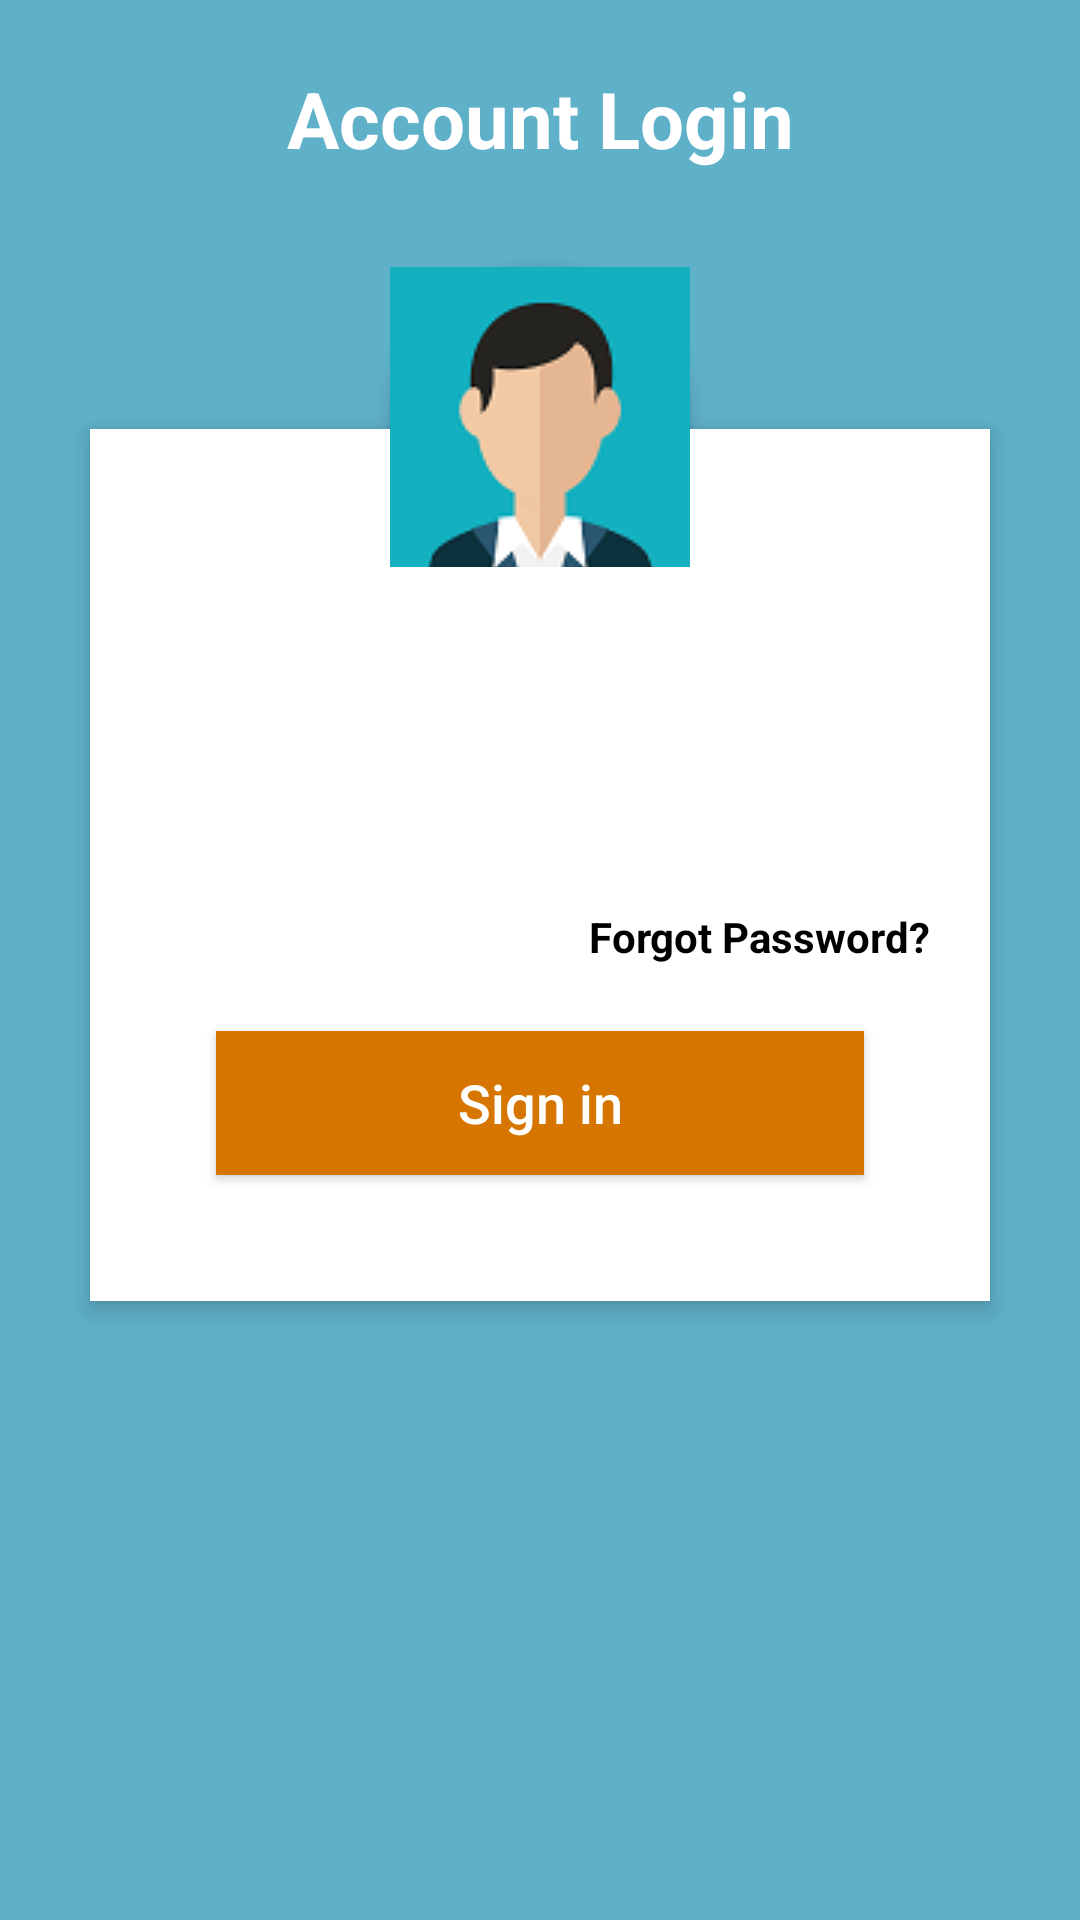

Named icons in this screenshot (1080 x 1920) and their centers, (x,y):
profile: (540,417)
